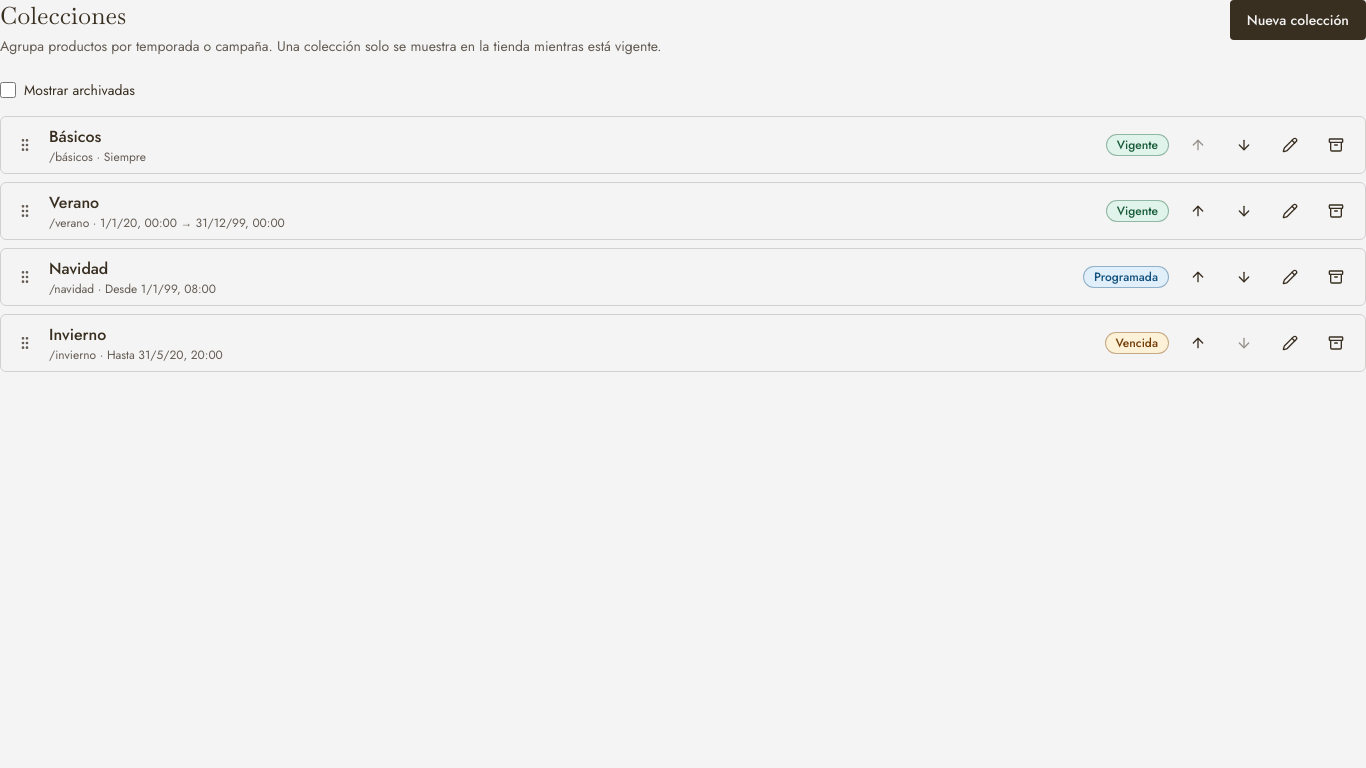
Scenario: CollectionsPage · crear › fin IGUAL al inicio también se rechaza (la base exige fin > inicio)
Expected: the text "Básicos" is shown, [49, 125, 101, 148]
Click the button "Nueva colección" at (1298, 20), box [1230, 0, 1365, 40]
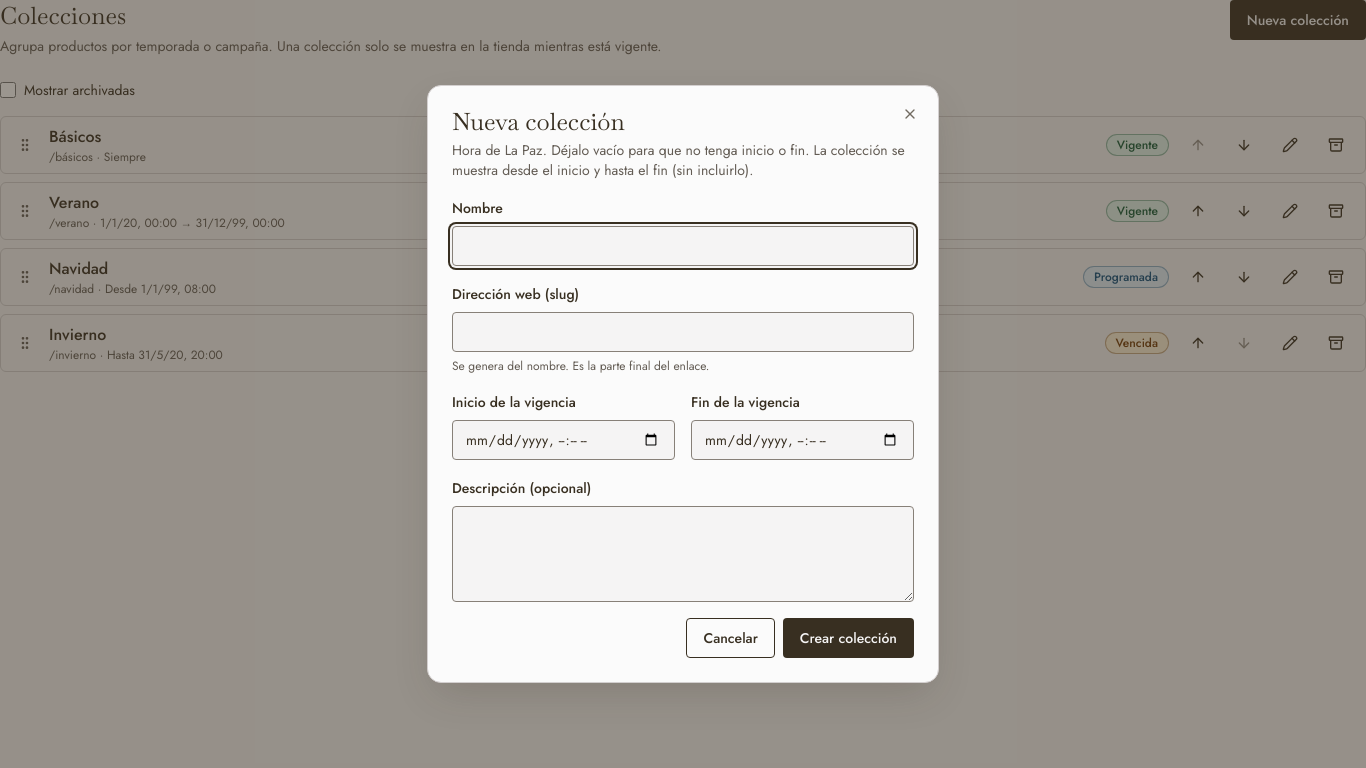
Type "Igual" into the field labelled "Nombre" at (683, 246), box [452, 226, 914, 266]
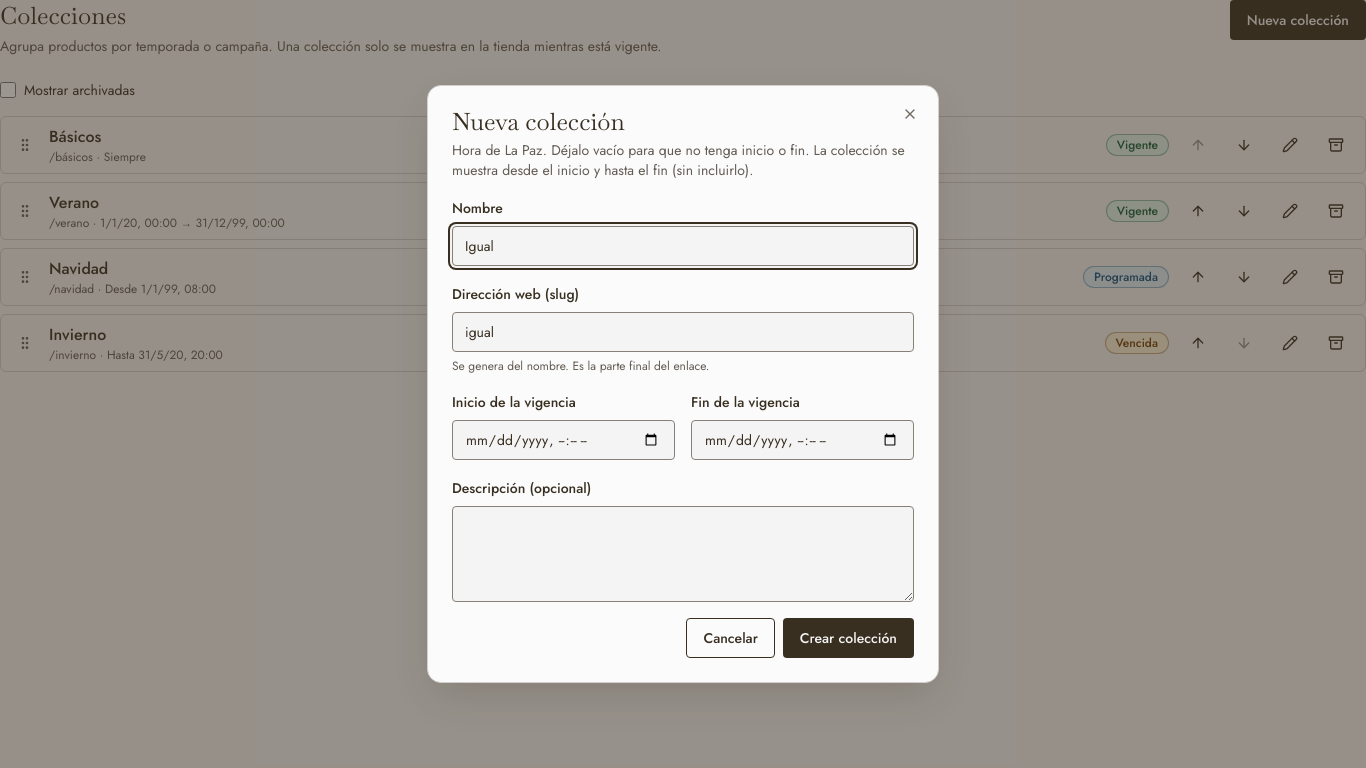
Type "2026-11-01T10:00" into the field labelled "Inicio de la vigencia" at (564, 440), box [452, 420, 675, 460]
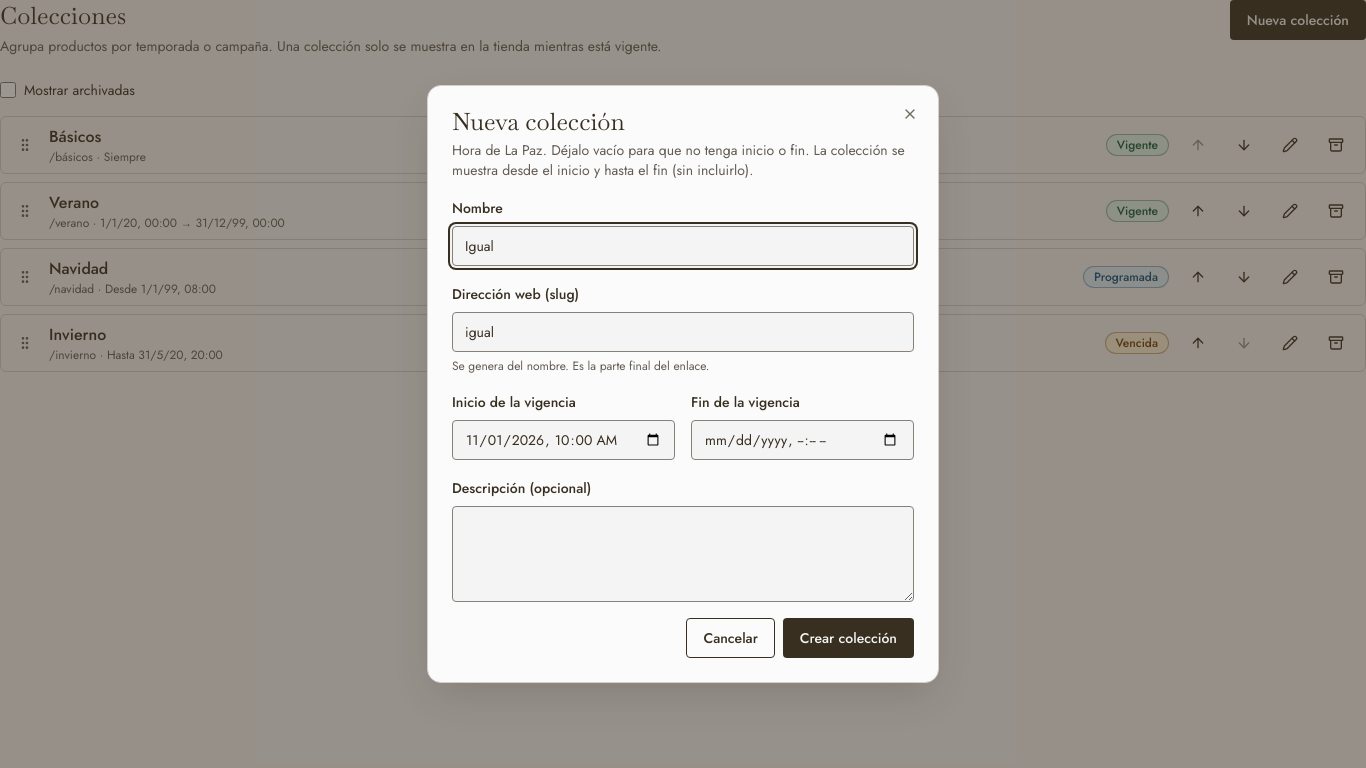
Type "2026-11-01T10:00" into the field labelled "Fin de la vigencia" at (802, 440), box [691, 420, 914, 460]
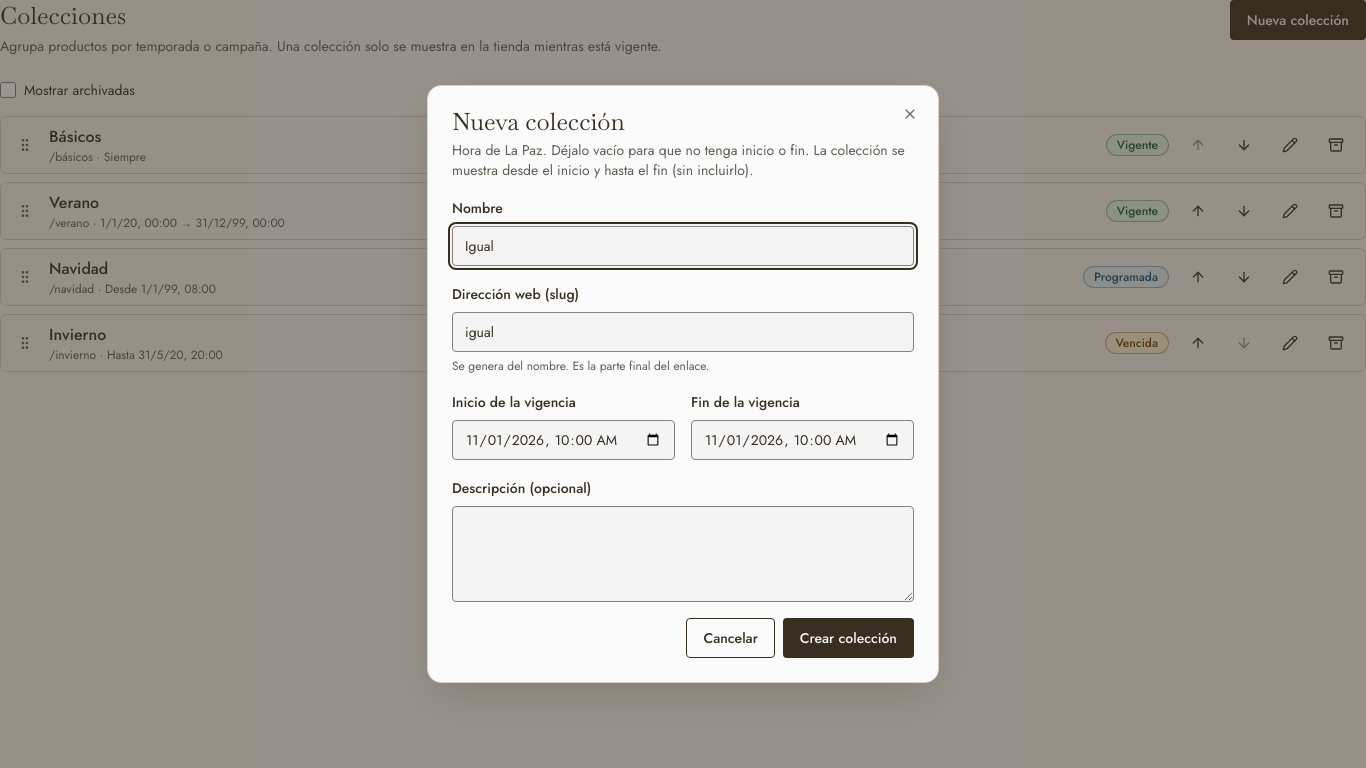
Click the button "Crear colección" at (848, 638), box [783, 618, 914, 658]
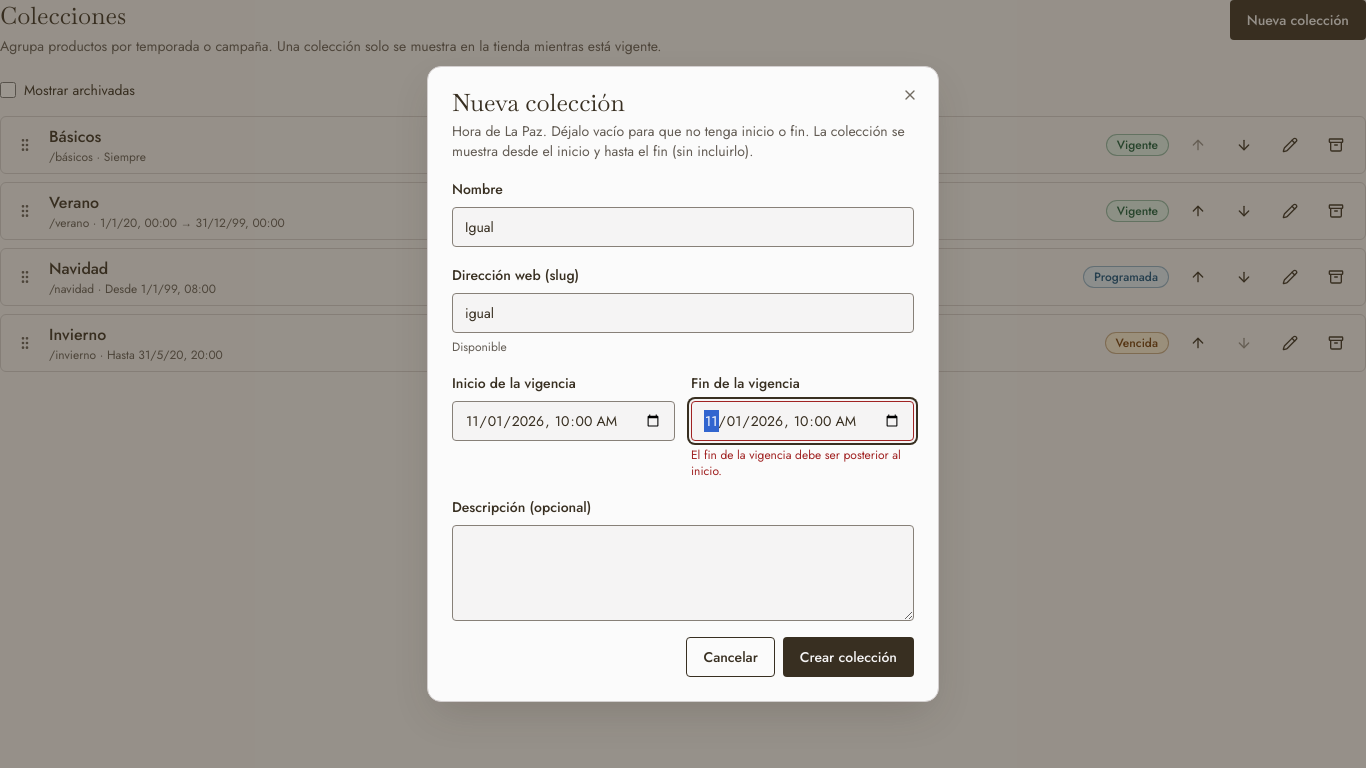
Result: the text "El fin de la vigencia debe ser posterior al inicio." is shown at [691, 447, 914, 479]
